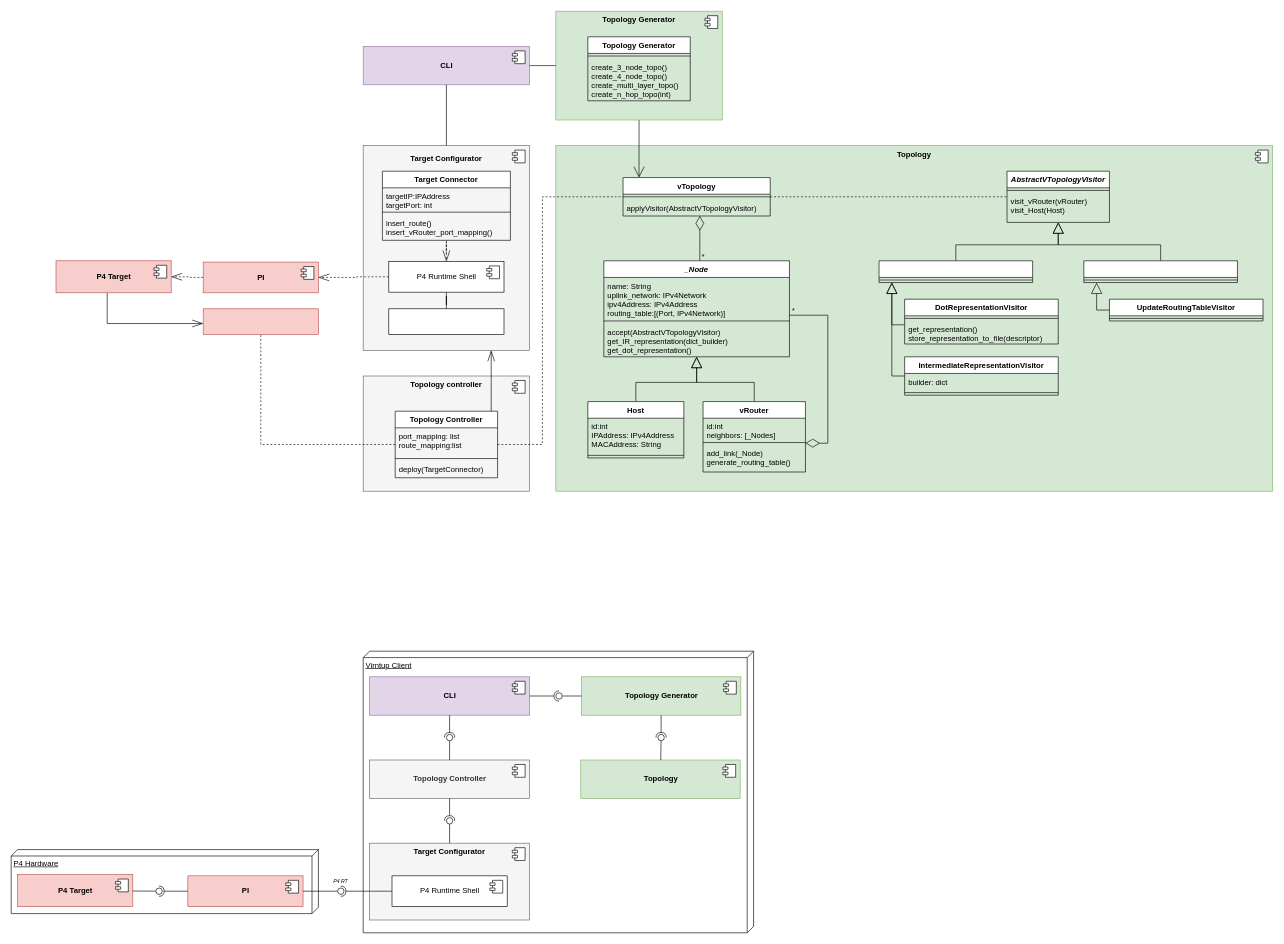
Image size: 1284x944. Some labels were removed from this diagram. The centre of each missing label's shape, as x and y in pixels:
AbstractPostOrderVTopologyVisitor: (1160,271)
AbstractPreOrderVTopologyVisitor: (955,271)
P4 Program: (446,321)
Target Environment: (260,321)
